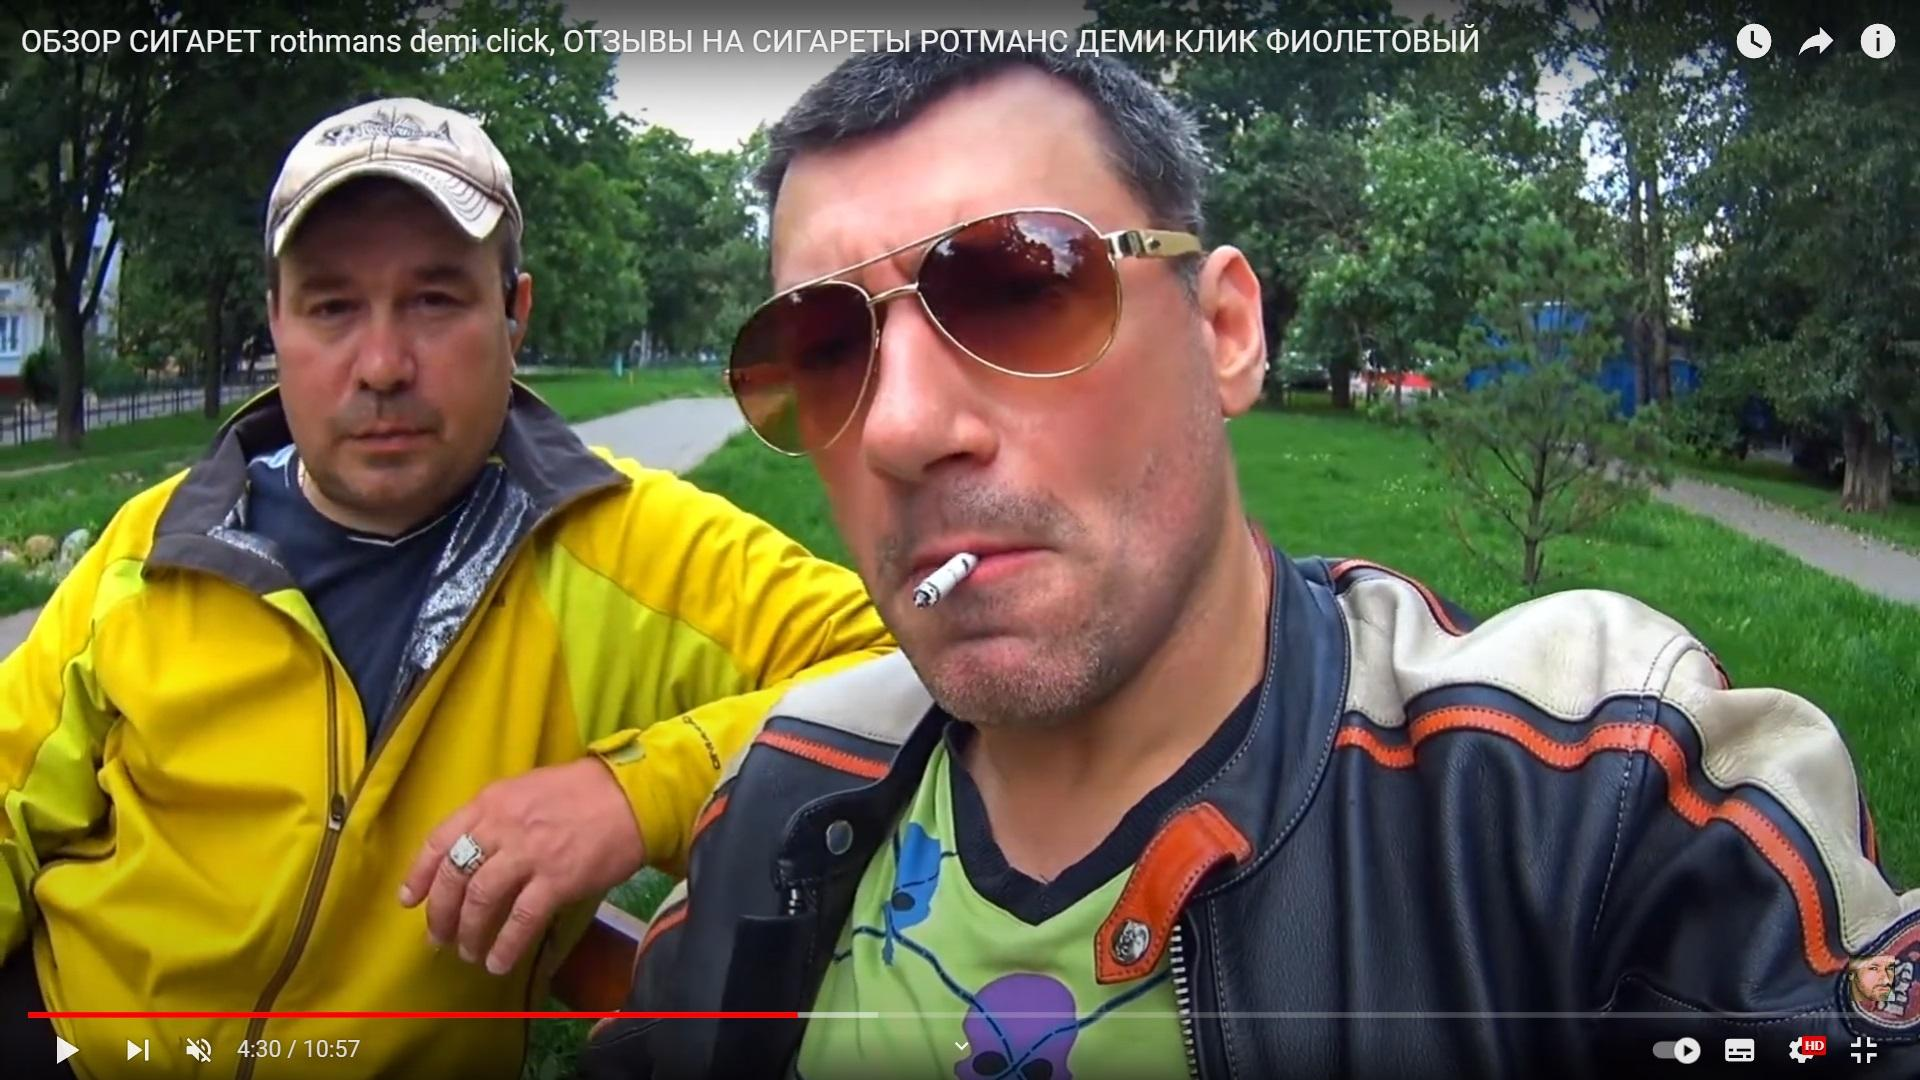cigarette: (911, 551, 980, 608)
